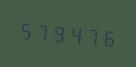five: (17, 15, 32, 43)
four: (66, 19, 81, 48)
nine: (50, 18, 65, 46)
seven: (33, 17, 48, 45), (82, 21, 97, 49)
six: (98, 22, 113, 50)
